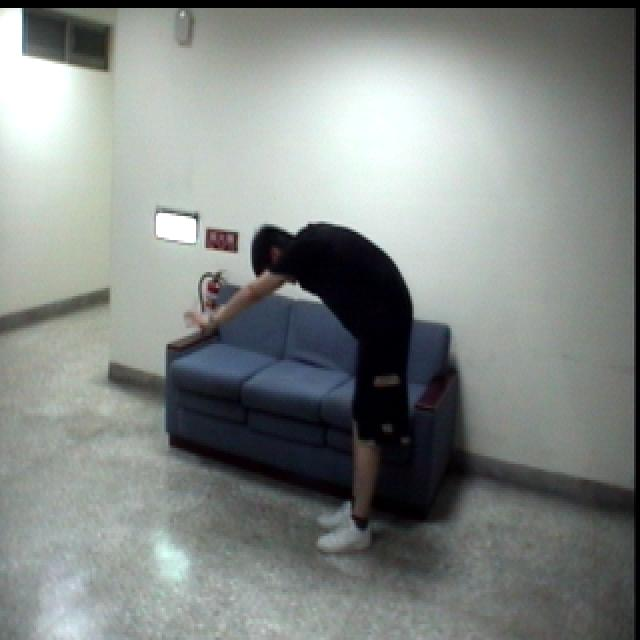bend: (174, 214, 420, 571)
